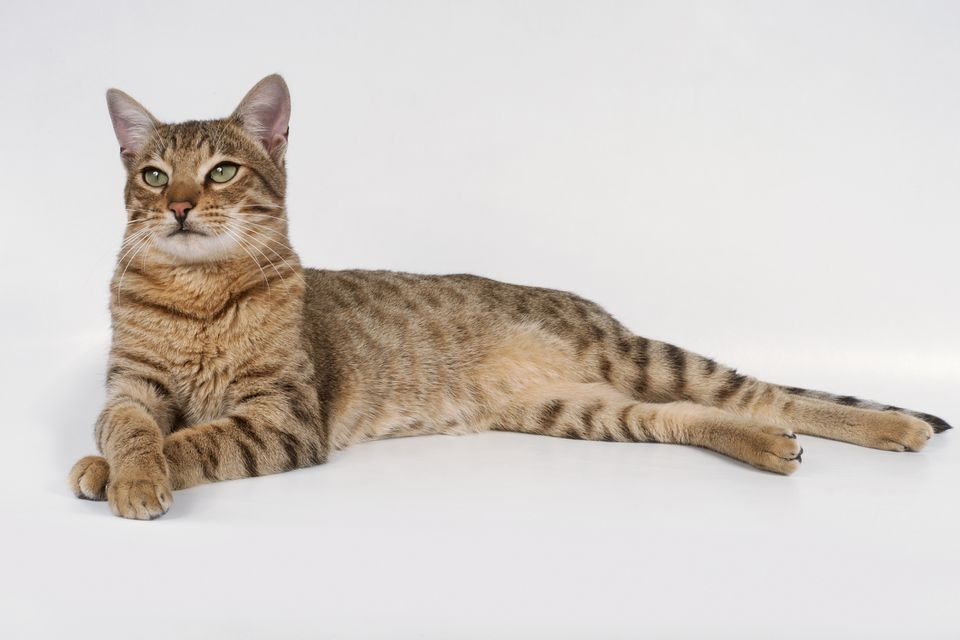cat: (36, 61, 959, 565)
